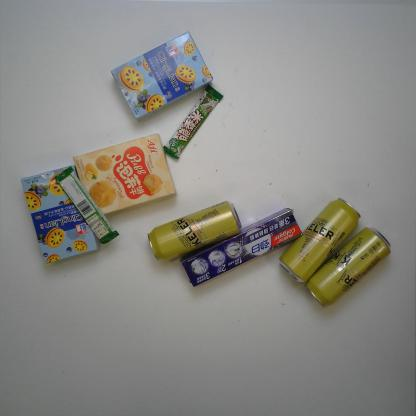Alcohol: (278, 195, 362, 283), (308, 225, 393, 308), (145, 200, 242, 262)
Chocolate: (54, 166, 121, 244), (163, 83, 223, 161)
Dessert: (110, 29, 214, 123), (72, 134, 176, 217), (21, 167, 98, 266)
Personal Hygiene: (180, 208, 304, 289)
